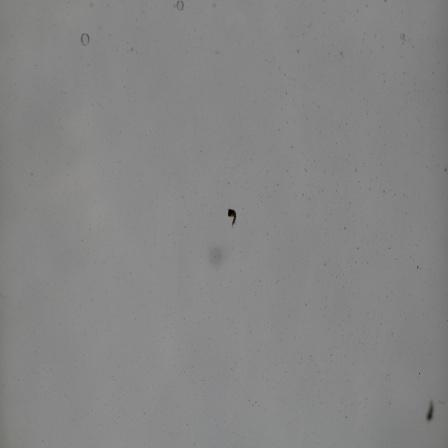Jentik-Nyamuk: (225, 207, 239, 231)
